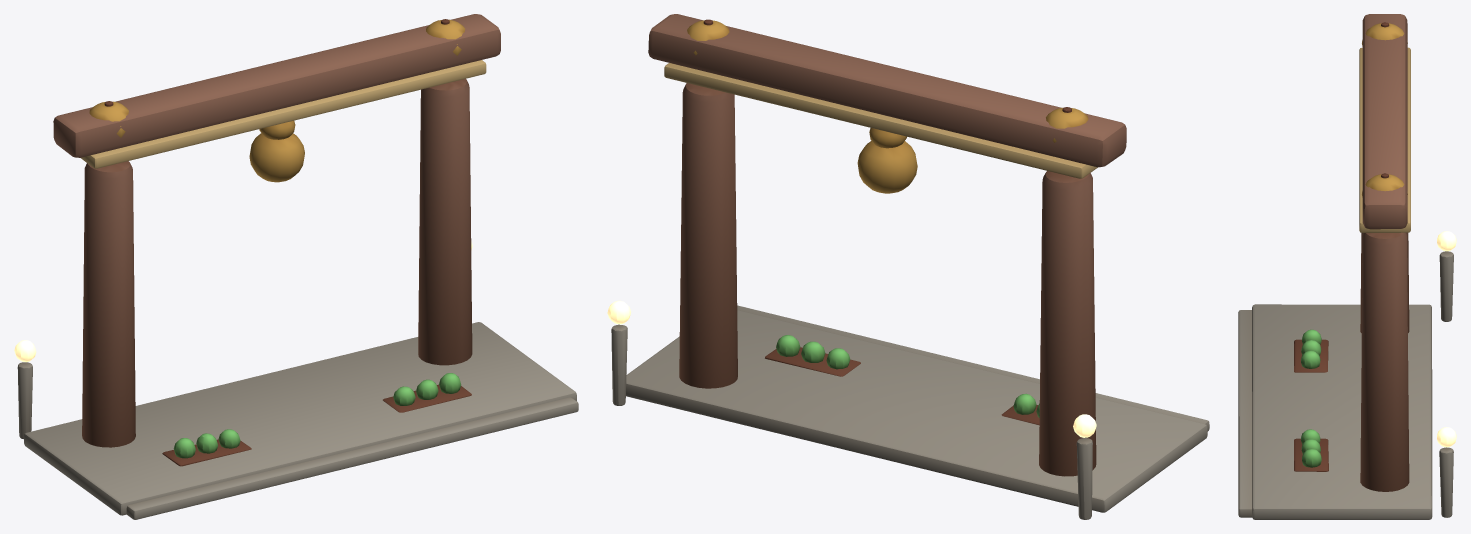
The picture shows the model from 3 angles, left to right: view 1: azimuth 30°, elevation 25°; view 2: azimuth 150°, elevation 25°; view 3: azimuth 270°, elevation 25°; orthographic projection. The views are drawn at different scales.
Visible parts, largest first — view 1: gate_ae95a137; view 2: gate_ae95a137; view 3: gate_ae95a137.
Part boxes in pixels (<box>): gate_ae95a137: <box>14,14,578,519</box>; gate_ae95a137: <box>607,14,1209,519</box>; gate_ae95a137: <box>1238,14,1456,519</box>.
Bounding box in the file's own units: 5.67 × 4.12 × 2.55.
